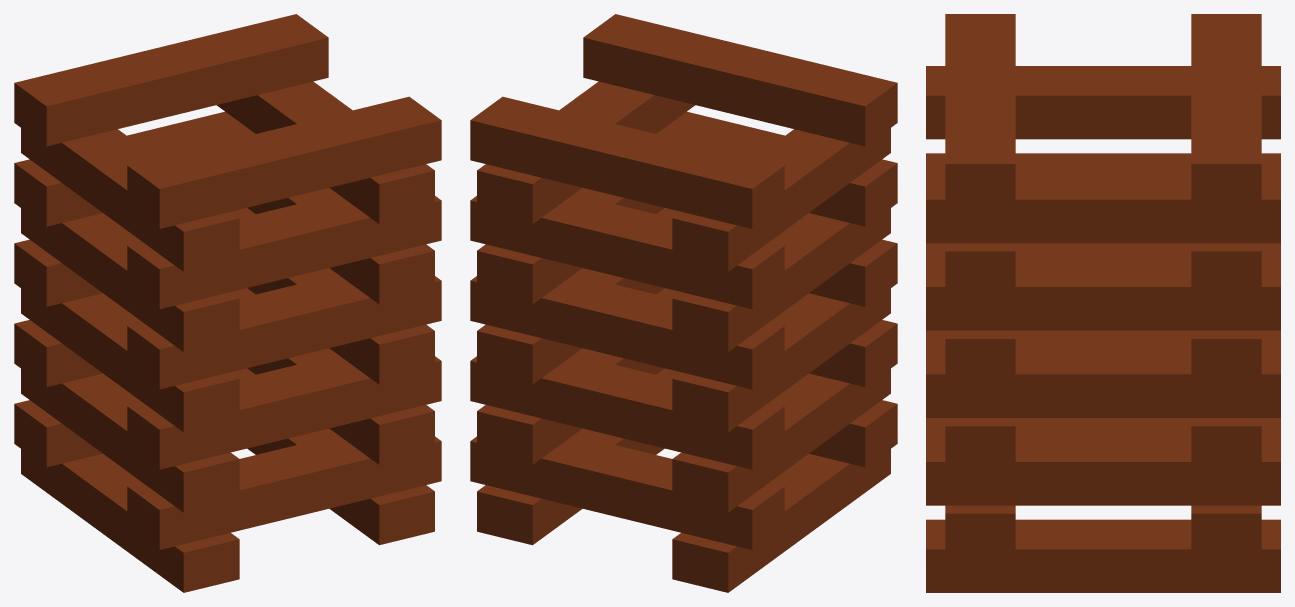
The model's file is Tahta.fbx.
3 views of the same model, side by side, from view 1: azimuth 30°, elevation 25°; view 2: azimuth 150°, elevation 25°; view 3: azimuth 270°, elevation 25° (orthographic). The views are drawn at different scales.
Parts seen in each view (by area): view 1: Cube.001, Cube.002, Cube.007, Cube.008, Cube.006, Cube.005, Cube.004, Cube.017, Cube.018, Cube.019, Cube.020, Cube.003 (+8 smaller); view 2: Cube.002, Cube.001, Cube.010, Cube.009, Cube.011, Cube.012, Cube.004, Cube.017, Cube.018, Cube.019, Cube.020, Cube.003 (+8 smaller); view 3: Cube.003, Cube.013, Cube.015, Cube.014, Cube.016, Cube.004, Cube.001, Cube.002, Cube.006, Cube.008, Cube.009, Cube.011 (+8 smaller).
Boxes of the visible parts, bbox=[...] form: Cube.001: bbox=[127, 96, 441, 228]; Cube.002: bbox=[14, 14, 328, 146]; Cube.007: bbox=[127, 355, 441, 469]; Cube.008: bbox=[127, 435, 441, 549]; Cube.006: bbox=[127, 274, 441, 389]; Cube.005: bbox=[127, 194, 441, 309]; Cube.004: bbox=[21, 128, 239, 271]; Cube.017: bbox=[21, 208, 239, 351]; Cube.018: bbox=[21, 288, 239, 432]; Cube.019: bbox=[21, 369, 239, 512]; Cube.020: bbox=[21, 449, 239, 592]; Cube.003: bbox=[216, 81, 434, 224]; Cube.002: bbox=[470, 96, 784, 228]; Cube.001: bbox=[583, 14, 897, 146]; Cube.010: bbox=[470, 355, 784, 469]; Cube.009: bbox=[470, 435, 784, 549]; Cube.011: bbox=[470, 274, 784, 389]; Cube.012: bbox=[470, 194, 784, 309]; Cube.004: bbox=[672, 128, 890, 271]; Cube.017: bbox=[672, 208, 890, 351]; Cube.018: bbox=[672, 288, 890, 432]; Cube.019: bbox=[672, 369, 890, 512]; Cube.020: bbox=[672, 449, 890, 592]; Cube.003: bbox=[477, 81, 695, 224]; Cube.003: bbox=[926, 170, 1280, 243]; Cube.013: bbox=[926, 257, 1280, 330]; Cube.015: bbox=[926, 432, 1280, 505]; Cube.014: bbox=[926, 344, 1280, 417]; Cube.016: bbox=[926, 519, 1280, 592]; Cube.004: bbox=[926, 66, 1280, 139]; Cube.001: bbox=[945, 14, 1015, 207]; Cube.002: bbox=[1191, 14, 1261, 207]; Cube.006: bbox=[945, 330, 1015, 382]; Cube.008: bbox=[945, 505, 1015, 557]; Cube.009: bbox=[1191, 505, 1261, 557]; Cube.011: bbox=[1191, 330, 1261, 382].
Bounding box in the file's own units: 200 × 272 × 200.
